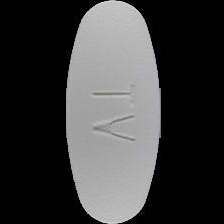0093-7677: (0, 0, 224, 224)
